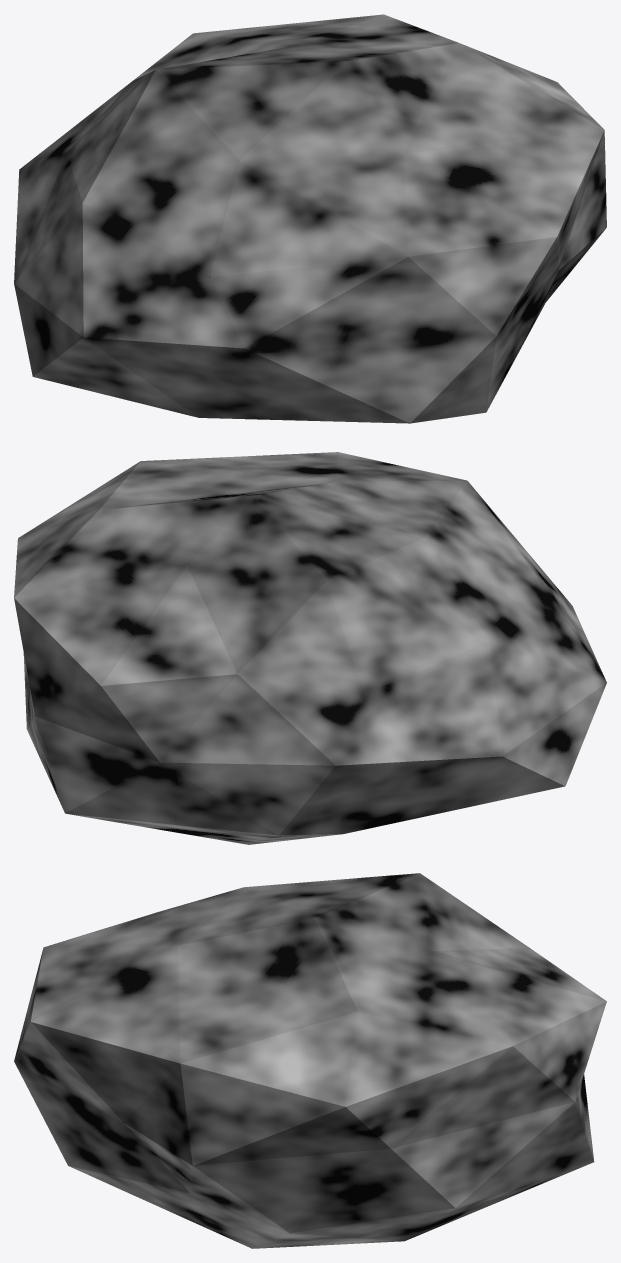
File: rock_variant_5.glb
The picture shows the model from 3 angles, top to bottom: view 1: azimuth 30°, elevation 25°; view 2: azimuth 150°, elevation 25°; view 3: azimuth 270°, elevation 25°; orthographic projection. The views are drawn at different scales.
Visible parts, largest first — view 1: rock_variant_5; view 2: rock_variant_5; view 3: rock_variant_5.
Part boxes in pixels (x1=…): rock_variant_5: x1=14, y1=14, x2=606, y2=423; rock_variant_5: x1=14, y1=452, x2=606, y2=844; rock_variant_5: x1=14, y1=873, x2=606, y2=1248.
Bounding box in the file's own units: 0.6471 × 0.3683 × 0.6434.
Materials: 1 (1 with a texture image).
